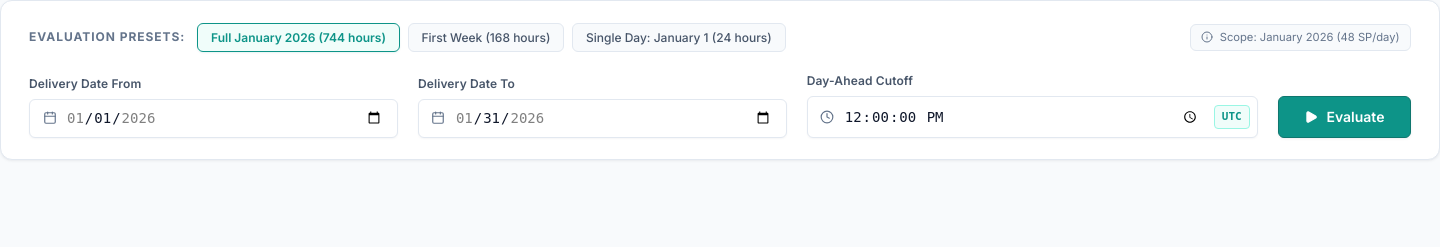
Test: Controls Component › displays validation error when end date is earlier than start date
The width and height of the screenshot is (1440, 247).
// Set end date before start date
Type "2026-01-10" into the date field labelled "Delivery Date From" at coordinates (213, 118), box [29,99,398,138]
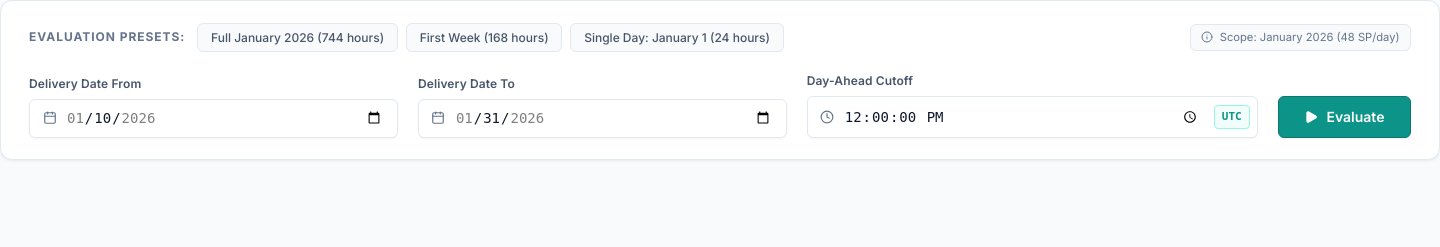
Type "2026-01-05" into the date field labelled "Delivery Date To" at coordinates (602, 118), box [418,99,787,138]
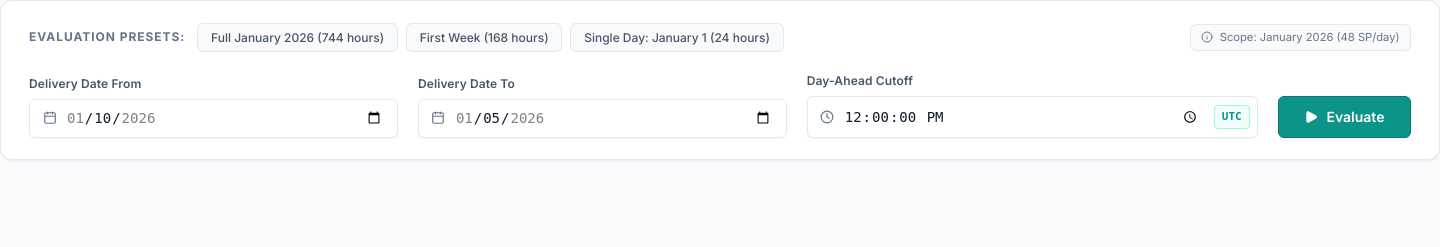
Click the button "Evaluate" at coordinates (1344, 117), box [1278,96,1411,138]
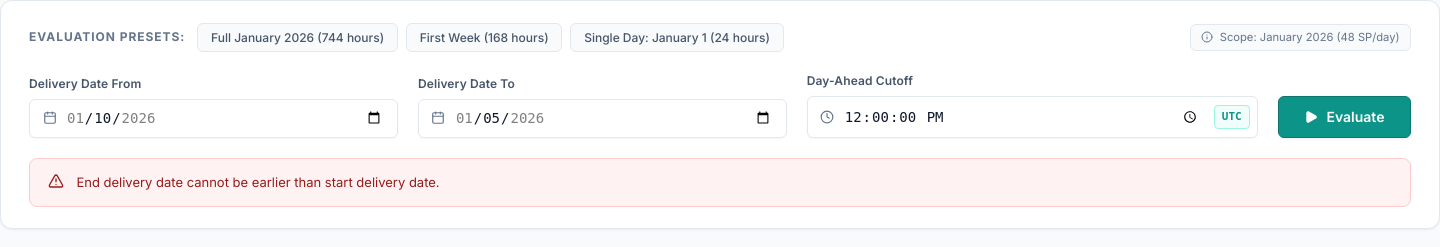
Expected: the message reads "End delivery date cannot be earlier than start delivery date.", [76,174,440,190]
